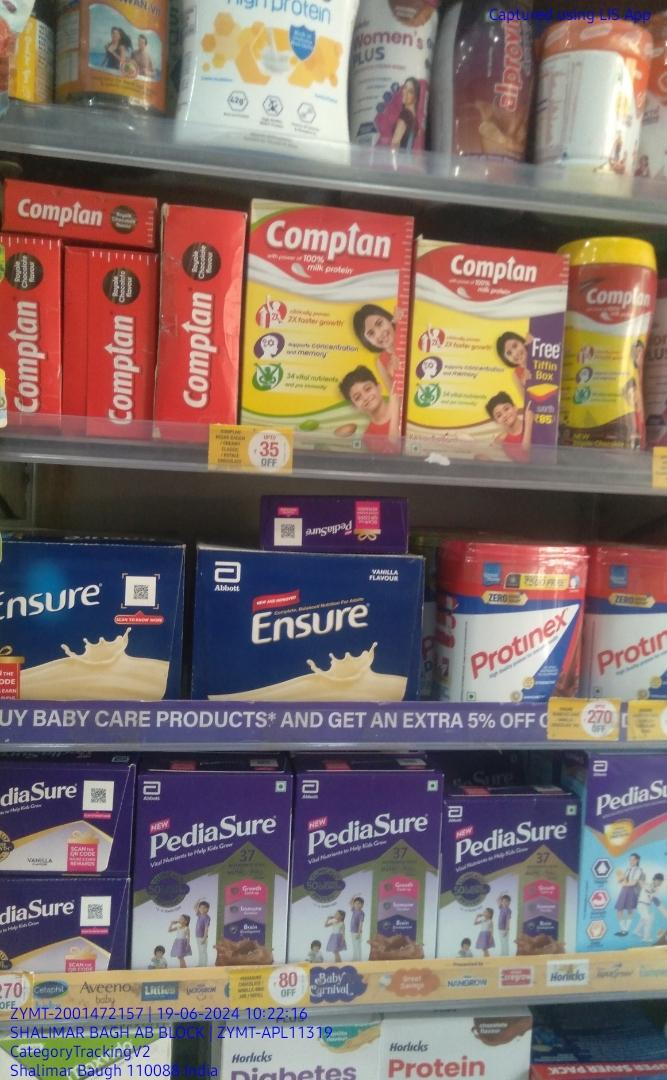COMPLAN_CHOCOLATE_500_GMS_JAR: (565, 234, 645, 460)
COMPLAN_PISTA_BADAM_500_GMS_PACK: (243, 199, 402, 440)
PROTINEX_CHOCOLATE_400_G_JAR: (447, 535, 585, 692)
